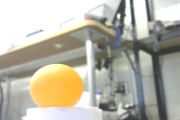PingPongBall: (30, 65, 82, 107)
